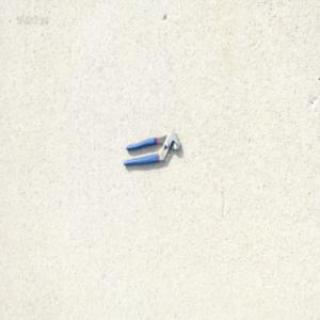Pliertrack_idkeyframe: (120, 130, 180, 167)
